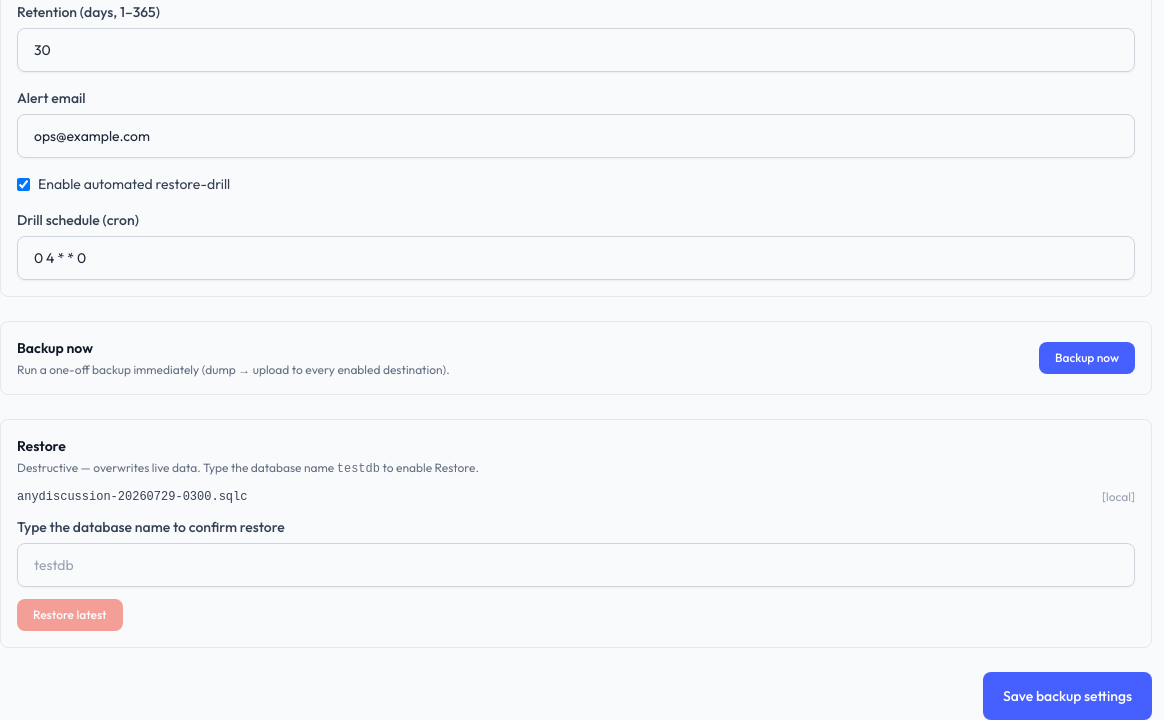
Scenario: D-05: Restore is gated behind type-the-DB-name confirmation › Restore button is DISABLED until the typed confirmation matches the DB name
This screenshot has width=1164, height=720.
(page scrolled)
Expected: the button "Restore latest" is disabled, [17,599,123,631]
Note: Wrong text → still disabled.
Type "wrong-name" into the field labelled "Type the database name to confirm restore" at x=576, y=565, box [17,543,1135,587]
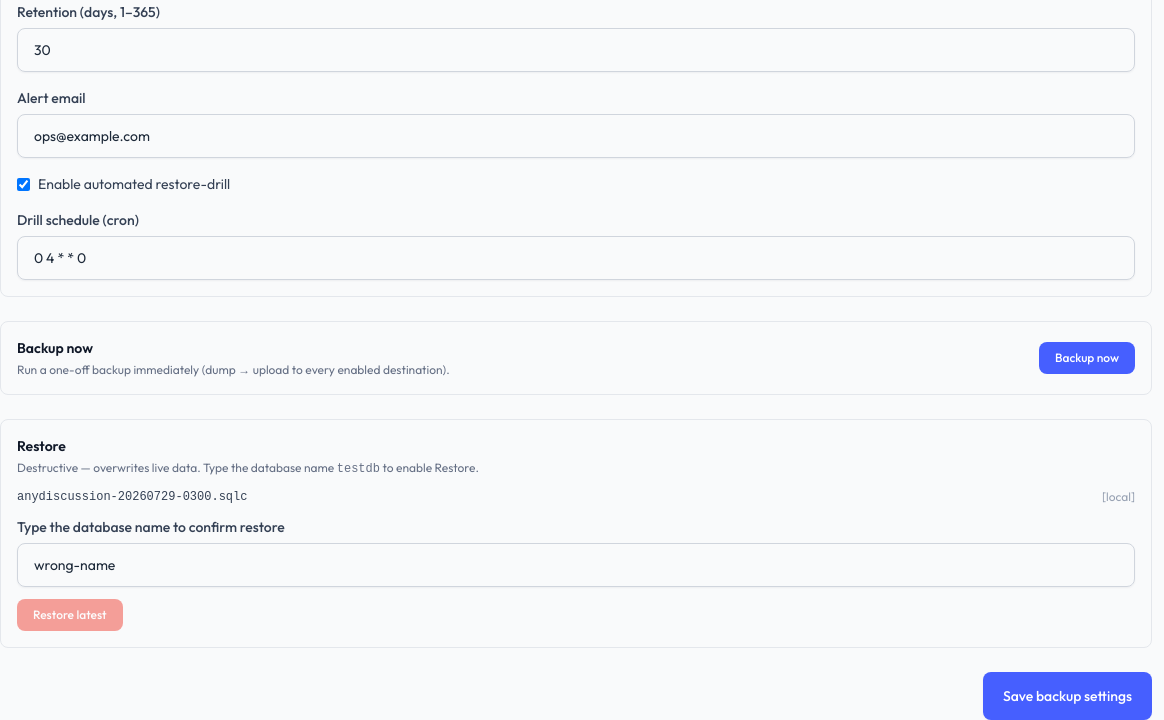
Expected: the button "Restore latest" is disabled, [17,599,123,631]
Note: Correct phrase → enabled.
Replace the text in the field labelled "Type the database name to confirm restore" with "testdb" at x=576, y=565, box [17,543,1135,587]
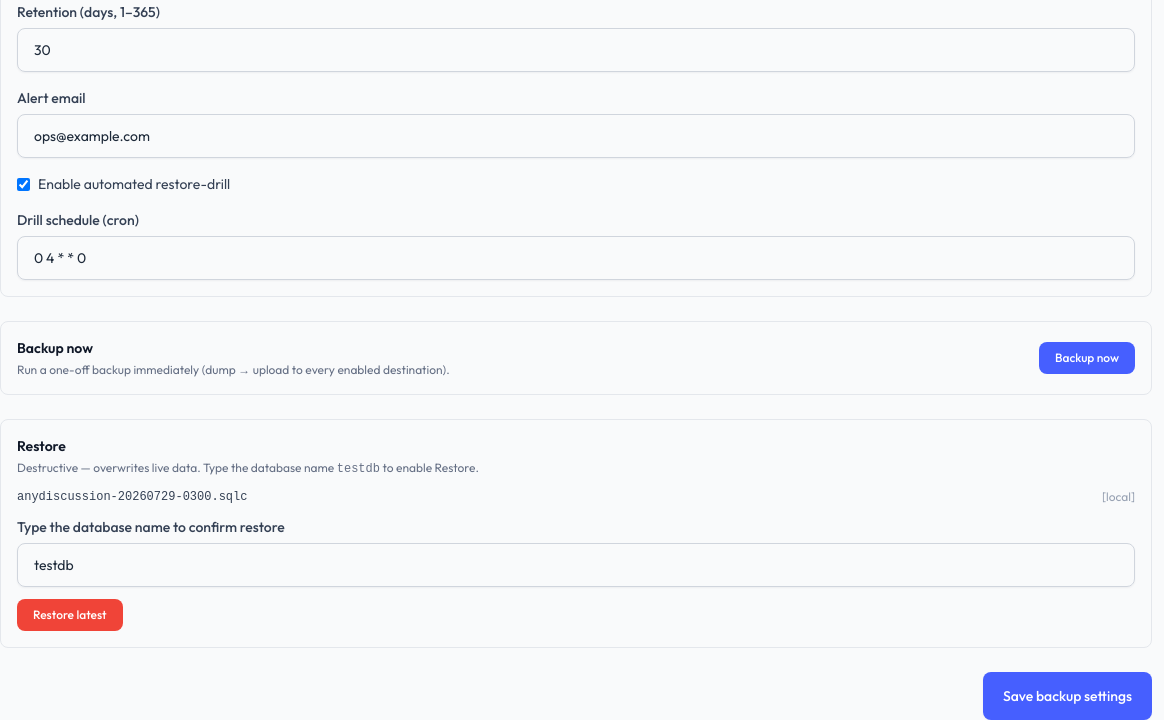
Expected: the button "Restore latest" is enabled, [17,599,123,631]
